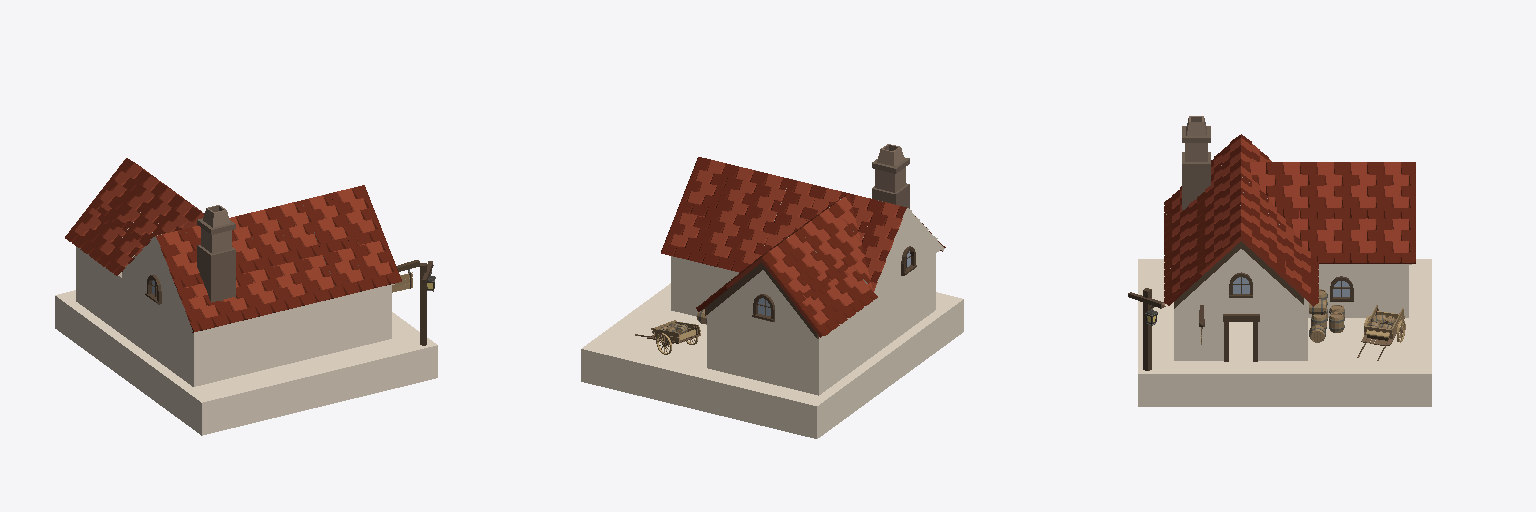
Rendered from newhome.obj.
3 renders of one model, left to right at view 1: azimuth 30°, elevation 25°; view 2: azimuth 150°, elevation 25°; view 3: azimuth 270°, elevation 25°, orthographic.
Parts seen in each view (by area): view 1: object59, object5, object7, Roof_Prop_Chimney_Stone3:object1, object16, object44, object22, object27, object45, object19, object17, object2 (+15 smaller); view 2: object59, object7, object8, Kit_Window_Upper_Straight3:object5, object16, Roof_Prop_Chimney_Stone3:object1, object43, Stucco_Block1:object1, object15, group9 object12, object14, object1 (+17 smaller); view 3: object59, Stucco_Doorway_Wide_Tall:object1 group3, object16, Kit_Window_Upper_Straight3:object5, Roof_Prop_Chimney_Stone3:object1, object32, object33, object2, object1, Roof_Straight_Side_Eave_Edge5:object1, object34, Stucco_Block1:object1 (+18 smaller).
Part boxes in pixels (left/top/right/bottom): object59: left=55, top=290, right=437, bottom=435; object5: left=193, top=291, right=362, bottom=386; object7: left=76, top=247, right=192, bottom=386; Roof_Prop_Chimney_Stone3:object1: left=197, top=205, right=235, bottom=302; object16: left=330, top=185, right=384, bottom=246; object44: left=156, top=229, right=203, bottom=289; object22: left=272, top=201, right=322, bottom=260; object27: left=243, top=208, right=293, bottom=267; object45: left=172, top=280, right=222, bottom=332; object19: left=301, top=193, right=350, bottom=253; object17: left=351, top=233, right=401, bottom=289; object2: left=363, top=284, right=391, bottom=345; object59: left=581, top=283, right=963, bottom=438; object7: left=819, top=254, right=935, bottom=394; object8: left=736, top=315, right=818, bottom=395; Kit_Window_Upper_Straight3:object5: left=725, top=243, right=819, bottom=304; object16: left=677, top=157, right=732, bottom=218; Roof_Prop_Chimney_Stone3:object1: left=872, top=144, right=909, bottom=208; object43: left=862, top=201, right=906, bottom=261; Stucco_Block1:object1: left=707, top=309, right=735, bottom=374; object15: left=694, top=208, right=744, bottom=267; group9 object12: left=661, top=210, right=710, bottom=260; object14: left=723, top=216, right=773, bottom=272; object1: left=671, top=256, right=699, bottom=316; object59: left=1138, top=259, right=1431, bottom=406; Stucco_Doorway_Wide_Tall:object1 group3: left=1208, top=300, right=1274, bottom=360; object16: left=1197, top=219, right=1284, bottom=275; Kit_Window_Upper_Straight3:object5: left=1376, top=162, right=1415, bottom=218; Roof_Prop_Chimney_Stone3:object1: left=1182, top=116, right=1210, bottom=210; object32: left=1342, top=162, right=1375, bottom=218; object33: left=1308, top=162, right=1341, bottom=218; object2: left=1174, top=300, right=1207, bottom=360; object1: left=1275, top=305, right=1307, bottom=360; Roof_Straight_Side_Eave_Edge5:object1: left=1376, top=218, right=1415, bottom=264; object34: left=1275, top=162, right=1307, bottom=218; Stucco_Block1:object1: left=1375, top=264, right=1408, bottom=317.
Bounding box in the file's own units: 8.61 × 6.39 × 9.05.